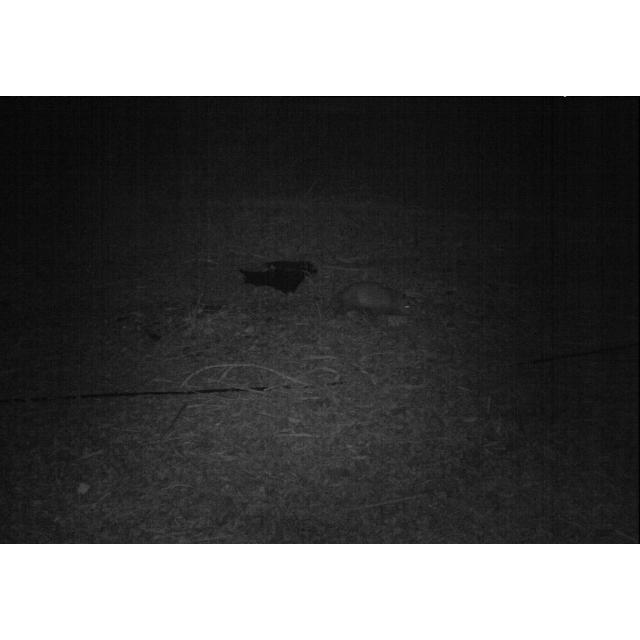animals: (330, 279, 420, 323)
